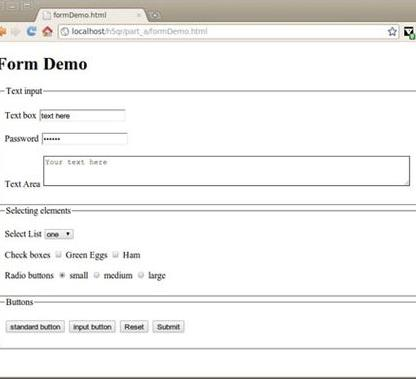button: (4, 318, 67, 333), (68, 319, 117, 334), (152, 319, 185, 334), (119, 319, 148, 334)
field: (41, 155, 414, 188), (37, 108, 128, 123), (40, 132, 130, 146)
field_with_label: (2, 154, 415, 190), (6, 106, 131, 124), (4, 131, 131, 147)
